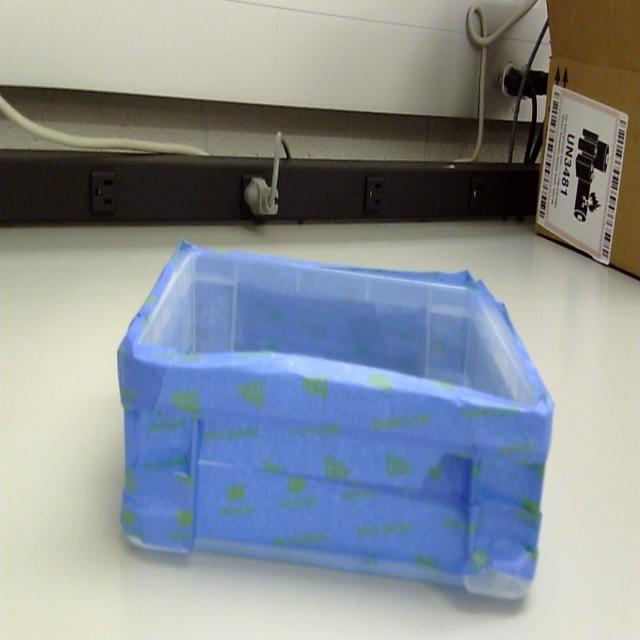bucket: (116, 242, 555, 607)
